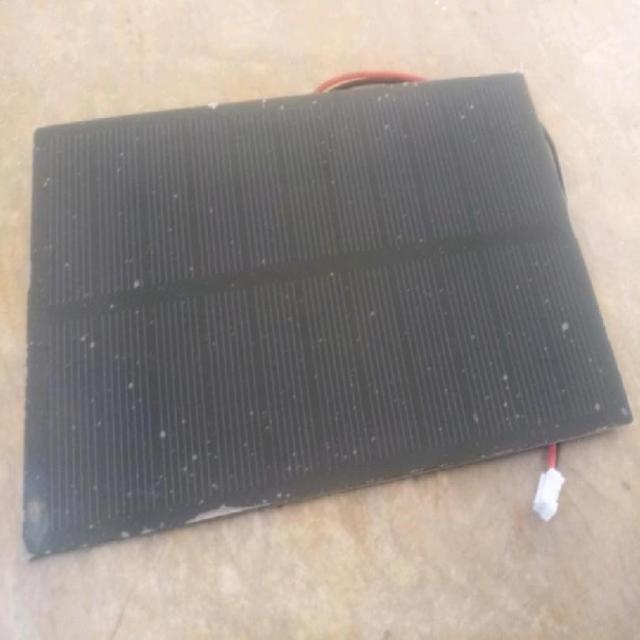faulty: (24, 69, 637, 559)
